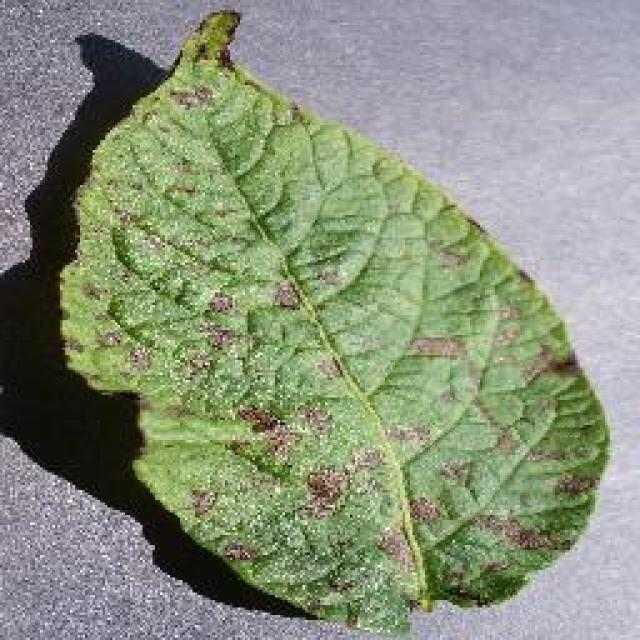early_blight: (50, 5, 615, 637)
